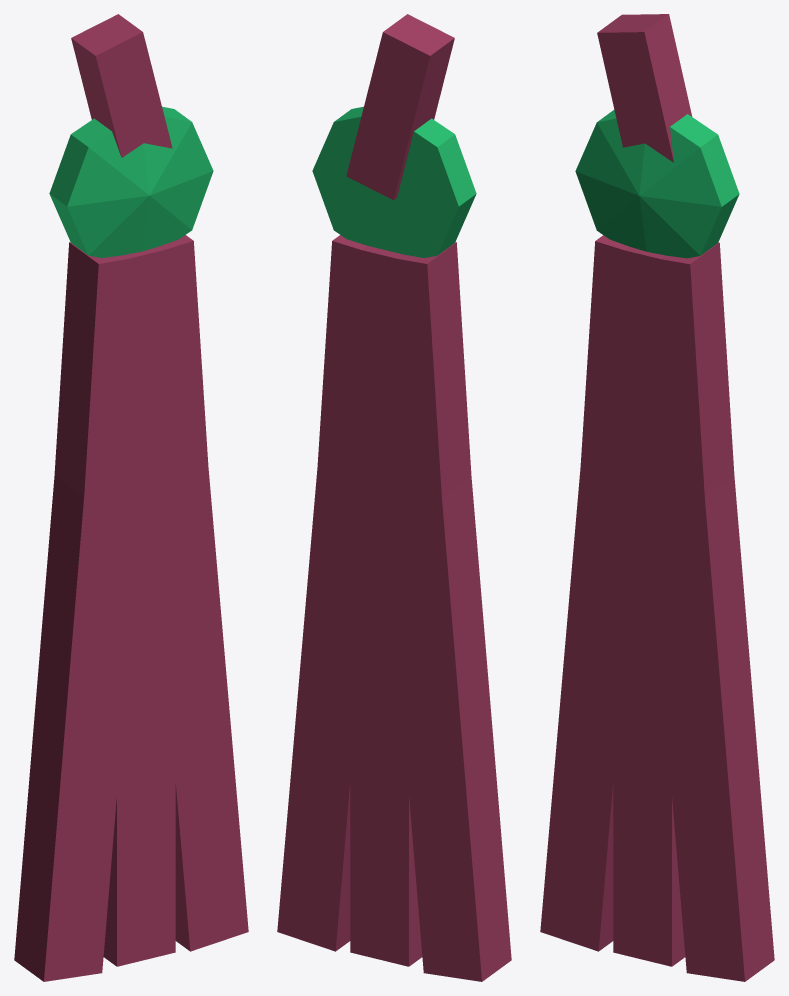
Rendered from silk_tassel.obj.
The picture shows the model from 3 angles, left to right: view 1: azimuth 30°, elevation 25°; view 2: azimuth 150°, elevation 25°; view 3: azimuth 330°, elevation 25°; orthographic projection.
Visible parts, largest first — view 1: sword_tassel_strand_01, sword_tassel_strand_00, sword_tassel_strand_02, sword_tassel_strand_00_edge, sword_tassel_knot, tassel_wrap, tassel_wrap_edge, sword_tassel_strand_02_edge, sword_tassel_strand_01_edge; view 2: sword_tassel_strand_00, sword_tassel_strand_02, sword_tassel_strand_01, sword_tassel_strand_00_edge, sword_tassel_knot, tassel_wrap, tassel_wrap_edge, sword_tassel_strand_02_edge, sword_tassel_strand_01_edge; view 3: sword_tassel_strand_00, sword_tassel_strand_02, sword_tassel_strand_01, sword_tassel_strand_02_edge, sword_tassel_knot, tassel_wrap, tassel_wrap_edge, sword_tassel_strand_00_edge, sword_tassel_strand_01_edge.
Boxes of the visible parts, x1,y1,x2,y2 form: sword_tassel_strand_01: [117, 247, 175, 966]; sword_tassel_strand_00: [44, 254, 156, 981]; sword_tassel_strand_02: [136, 241, 248, 951]; sword_tassel_strand_00_edge: [14, 242, 127, 981]; sword_tassel_knot: [49, 106, 213, 257]; tassel_wrap: [96, 32, 172, 157]; tassel_wrap_edge: [71, 14, 142, 156]; sword_tassel_strand_02_edge: [160, 235, 193, 951]; sword_tassel_strand_01_edge: [103, 246, 163, 966]; sword_tassel_strand_00: [369, 254, 481, 981]; sword_tassel_strand_02: [277, 241, 390, 951]; sword_tassel_strand_01: [350, 247, 408, 966]; sword_tassel_strand_00_edge: [398, 242, 511, 981]; sword_tassel_knot: [312, 106, 476, 257]; tassel_wrap: [346, 32, 429, 199]; tassel_wrap_edge: [383, 14, 454, 199]; sword_tassel_strand_02_edge: [332, 235, 366, 951]; sword_tassel_strand_01_edge: [362, 245, 422, 966]; sword_tassel_strand_00: [540, 241, 653, 951]; sword_tassel_strand_02: [634, 257, 744, 981]; sword_tassel_strand_01: [613, 248, 671, 966]; sword_tassel_strand_02_edge: [661, 242, 774, 981]; sword_tassel_knot: [575, 110, 739, 258]; tassel_wrap: [597, 32, 673, 162]; tassel_wrap_edge: [597, 14, 692, 160]; sword_tassel_strand_00_edge: [595, 235, 628, 951]; sword_tassel_strand_01_edge: [625, 246, 685, 966].
Bounding box in the file's own units: 0.1678 × 0.727 × 0.0468.
